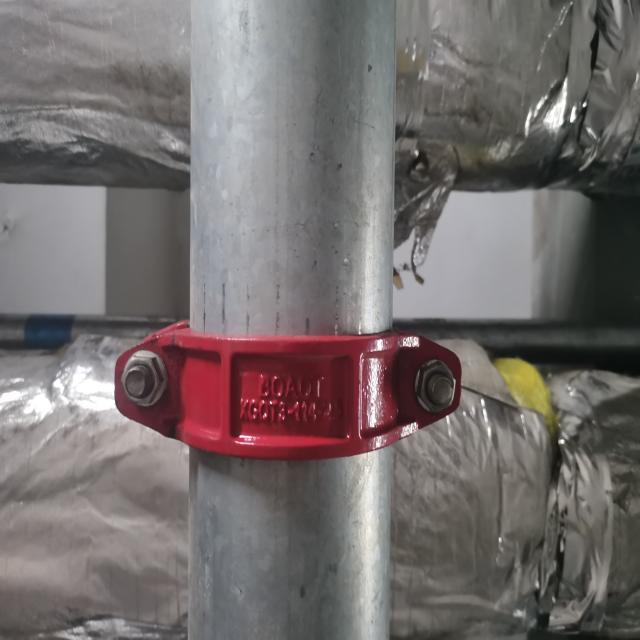bolt nut: (120, 349, 166, 407), (414, 357, 457, 415)
